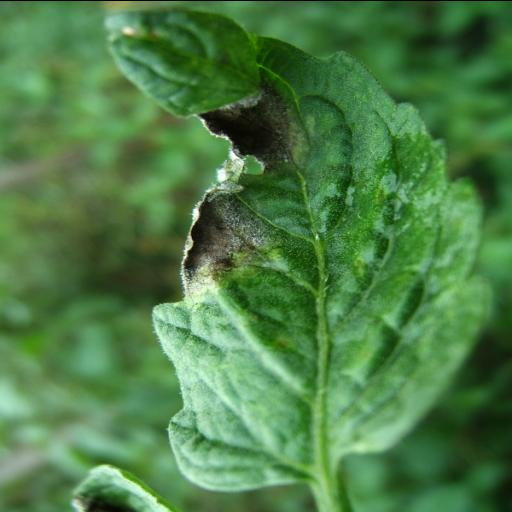Late Blight: (134, 17, 498, 492)
